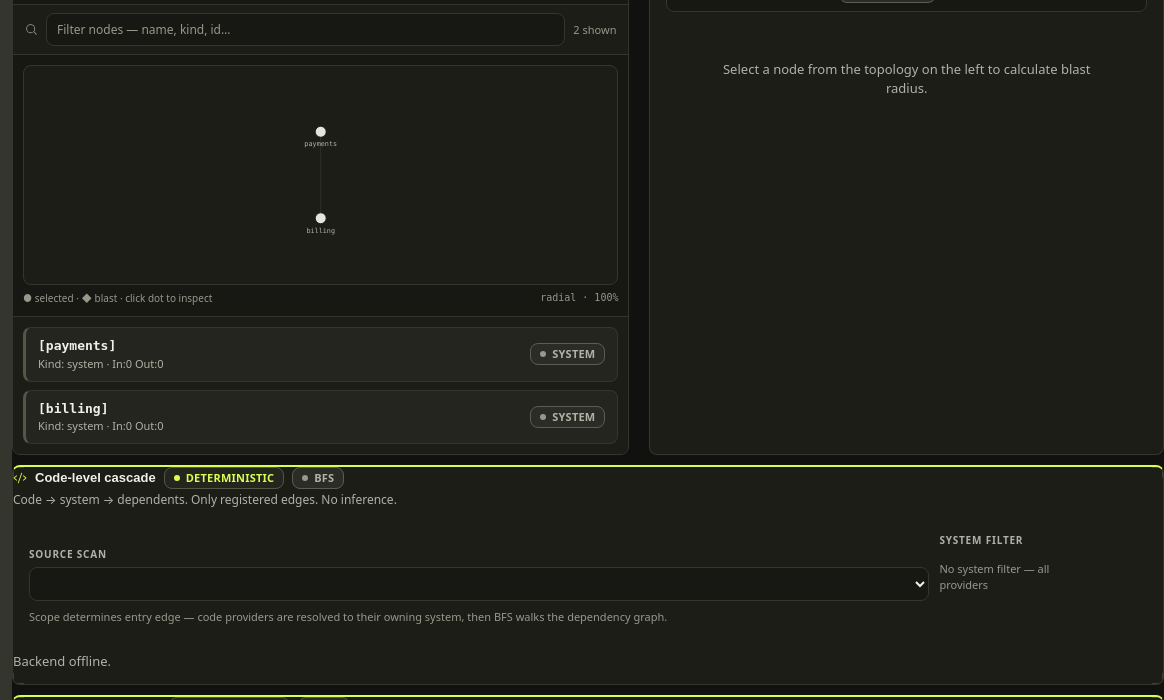
Test case: DependencyGraph — honest blast radius and backend › an empty traversal shows zero honestly instead of claiming none exist globally
(page scrolled)
Click the text "payments" at x=77, y=345, box [46, 338, 108, 353]
(page scrolled)
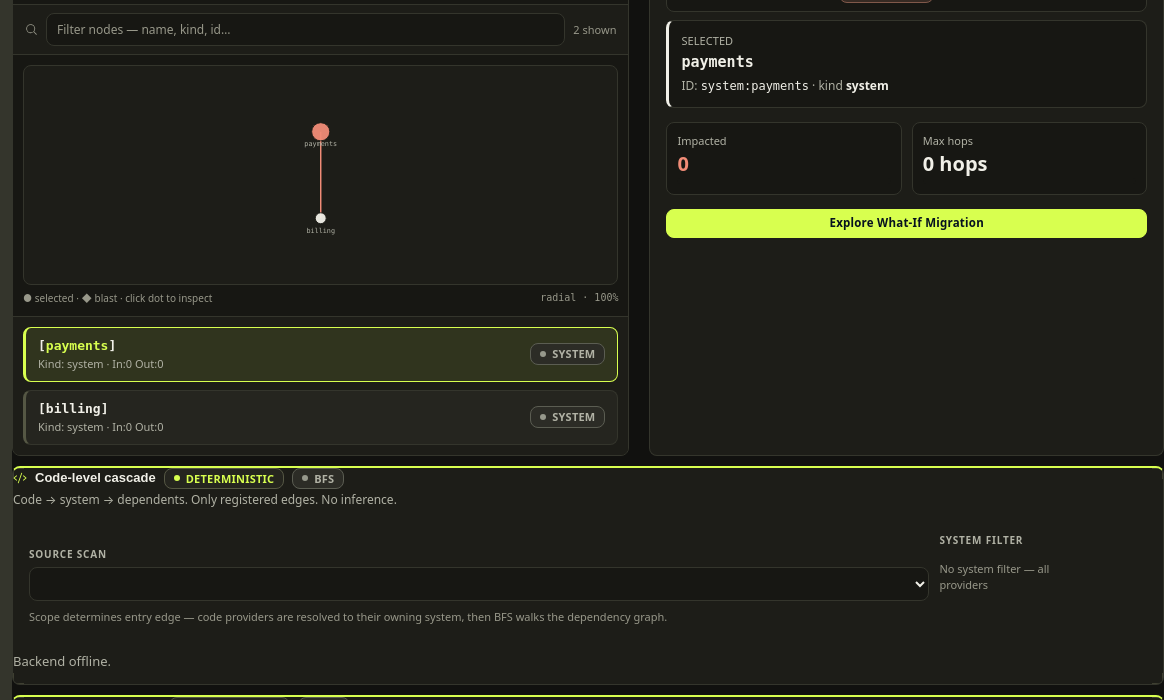
Now the text "0 hops" is shown, box [923, 150, 988, 177]
